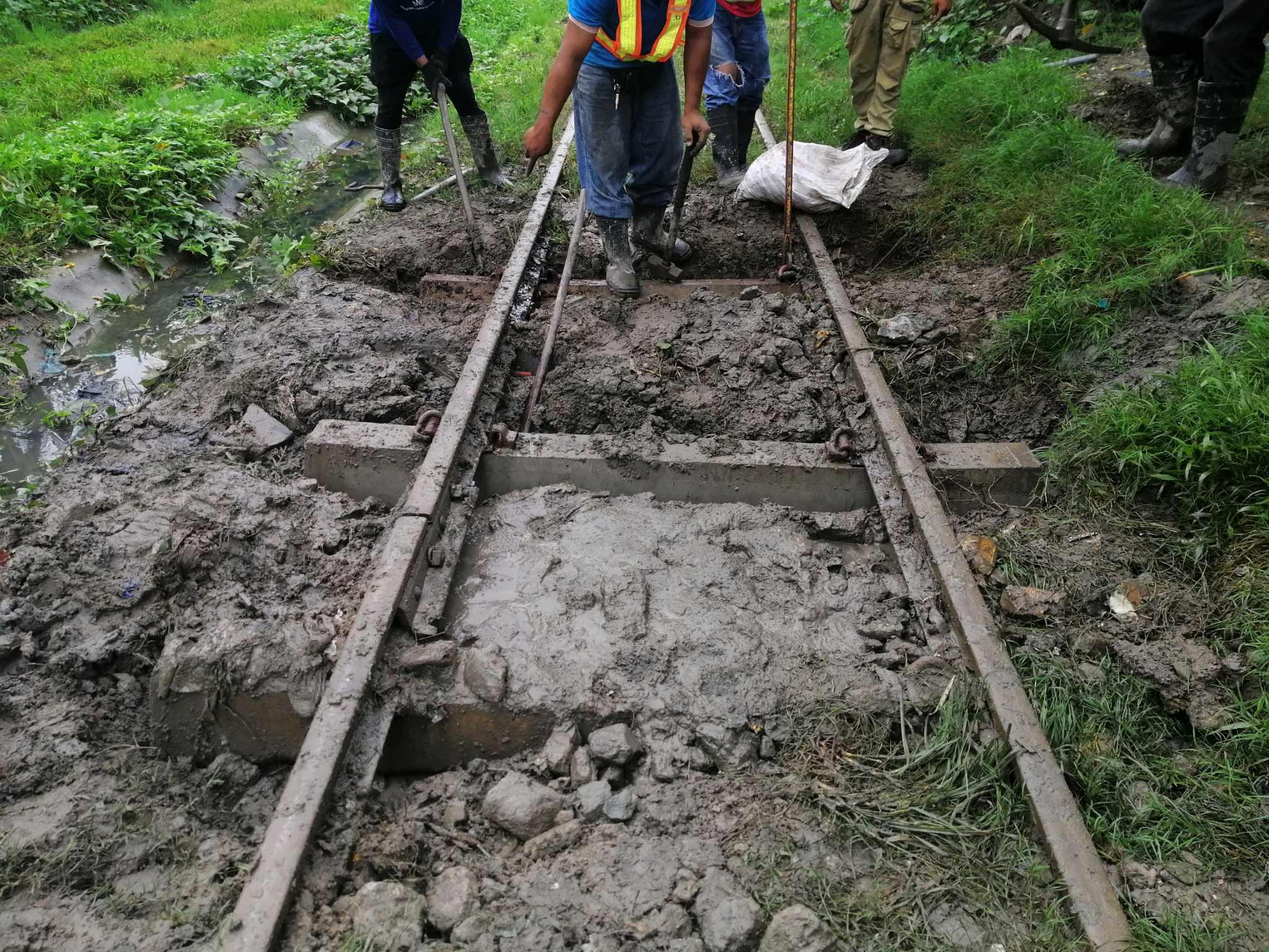railway-gap: (371, 475, 459, 559)
